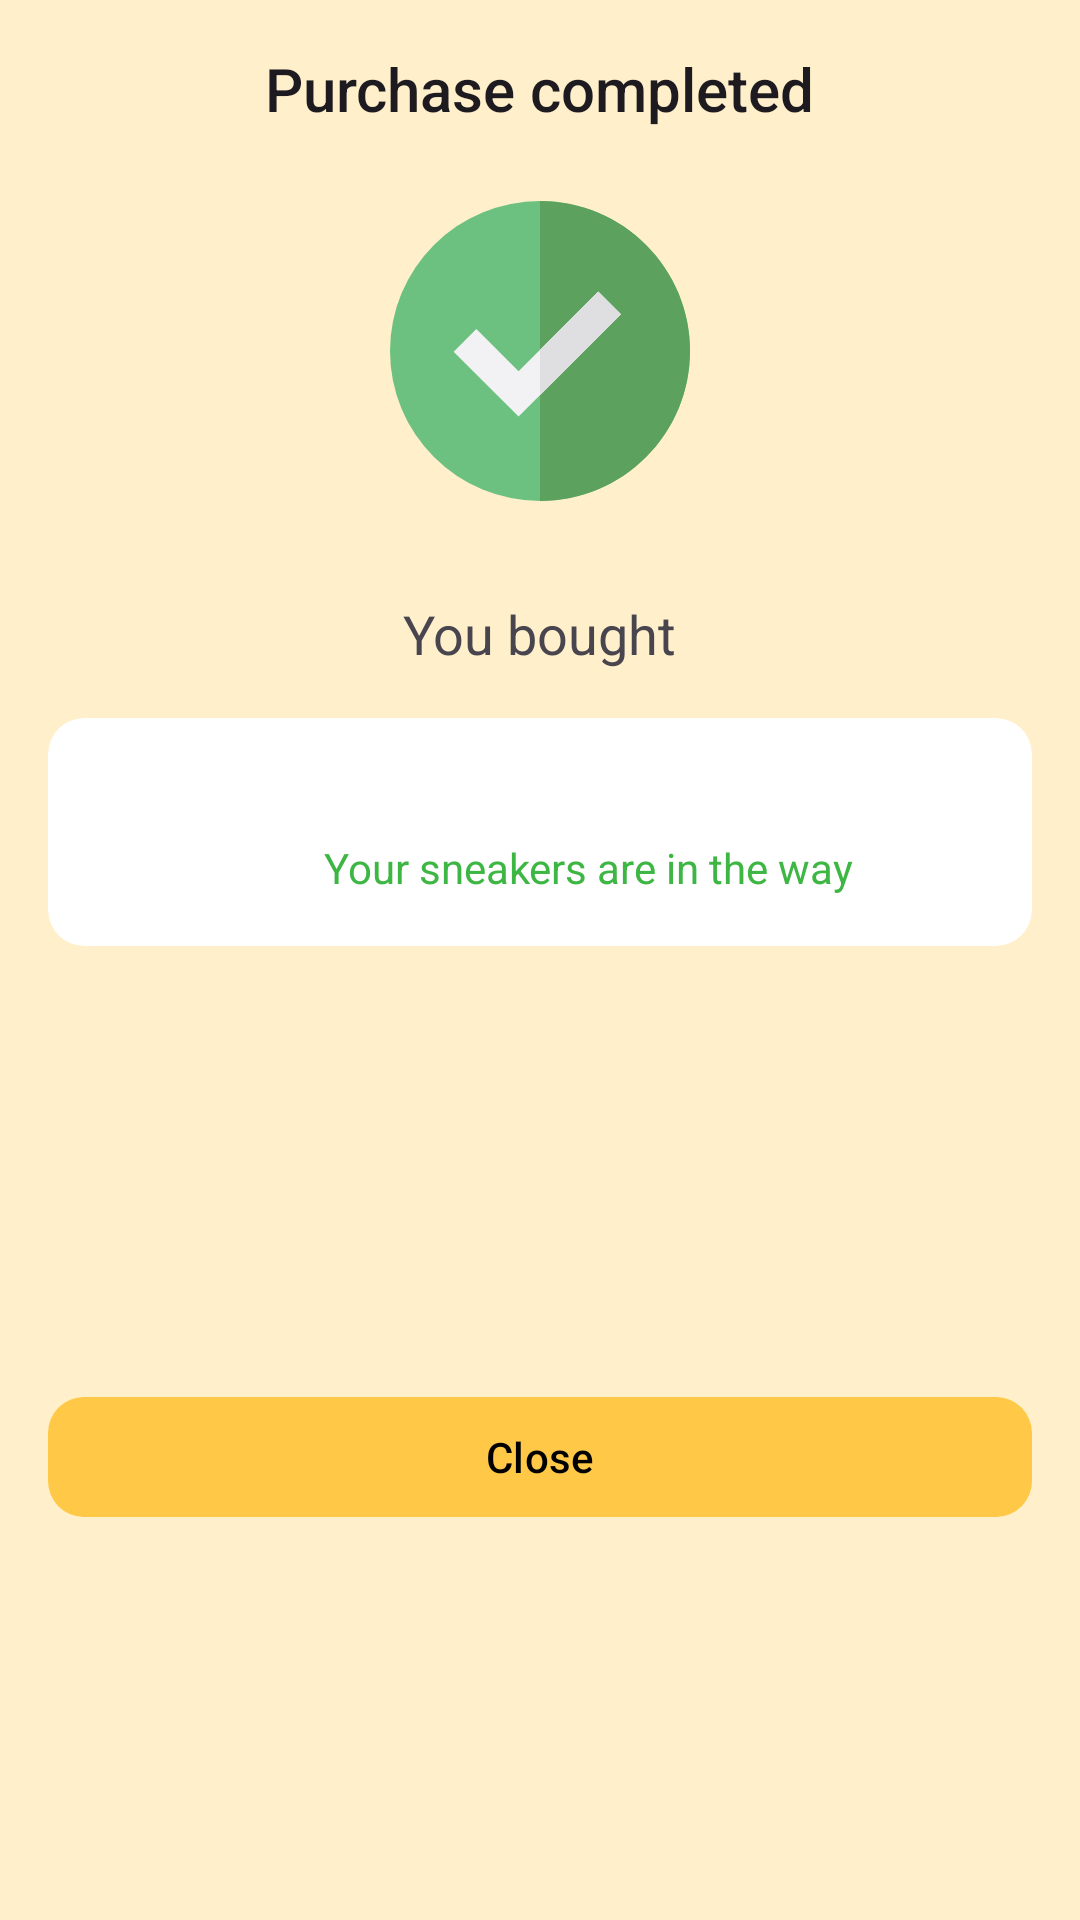

Where icons sit on this 1080x1920 app screen, as BBox(x1, y1, x2, y2):
Check done: BBox(390, 201, 690, 501)
